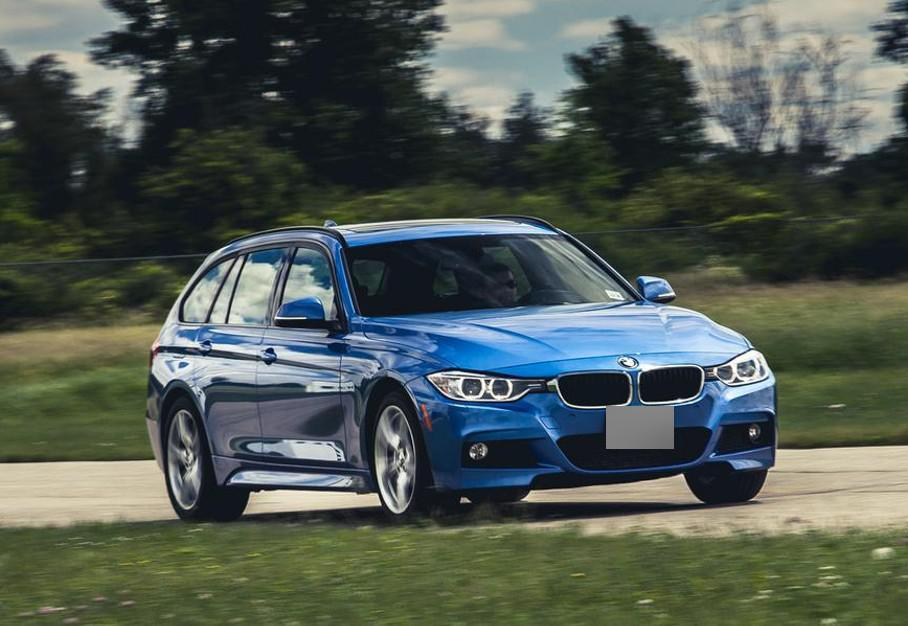Wagon: (147, 216, 777, 526)
